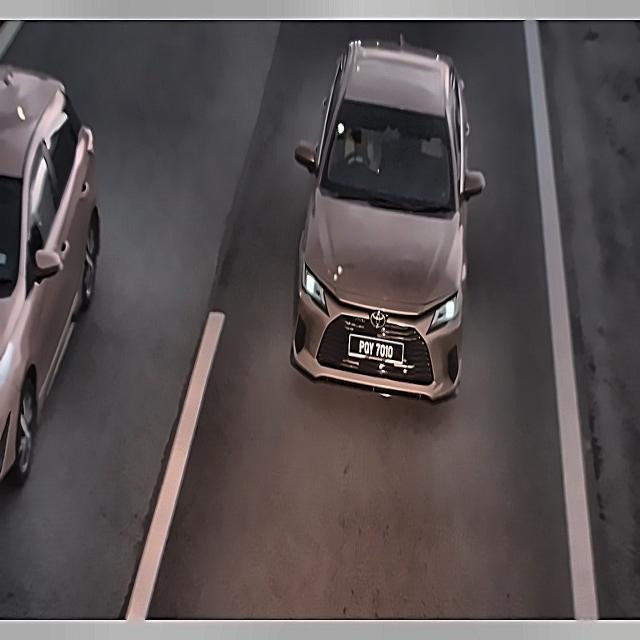car: (348, 331, 408, 368)
